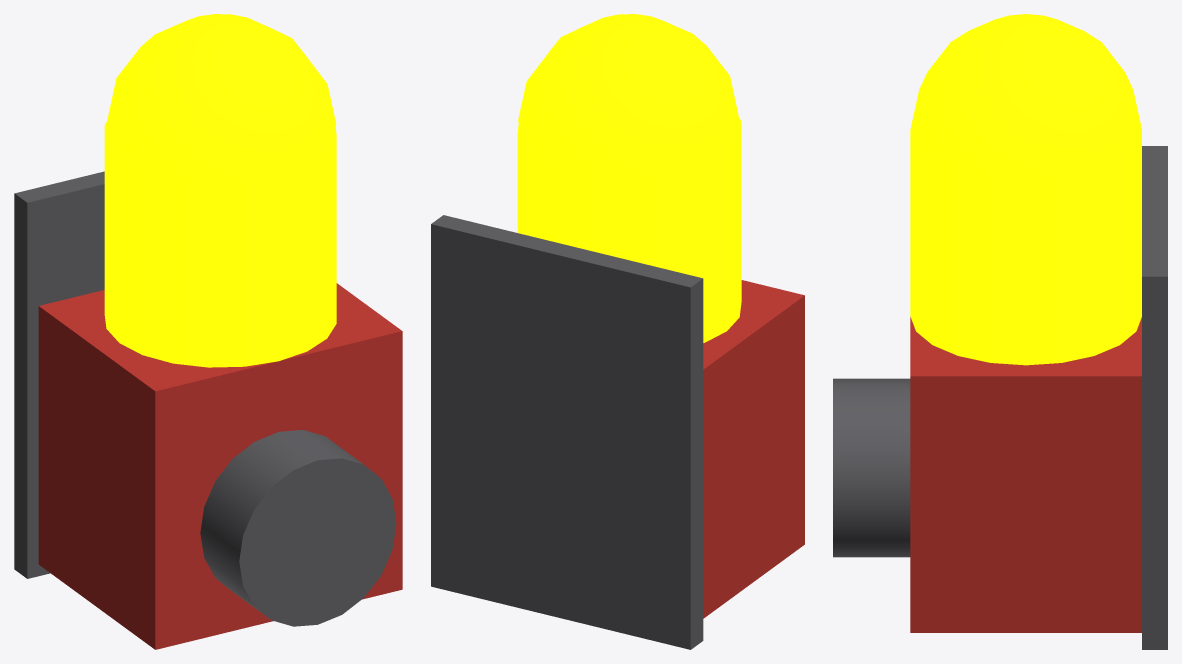
Rendered from SM_GasAlarmBeacon.fbx.
The picture shows the model from 3 angles, left to right: view 1: azimuth 30°, elevation 25°; view 2: azimuth 150°, elevation 25°; view 3: azimuth 270°, elevation 25°; orthographic projection. The views are drawn at different scales.
Parts seen in each view (by area): view 1: GD_AlarmBeacon; view 2: GD_AlarmBeacon; view 3: GD_AlarmBeacon.
Part boxes in pixels (x1=…): GD_AlarmBeacon: x1=14, y1=14, x2=402, y2=649; GD_AlarmBeacon: x1=431, y1=14, x2=804, y2=649; GD_AlarmBeacon: x1=833, y1=14, x2=1167, y2=649.
Size of the model in its own units: 12 by 24 by 13.
